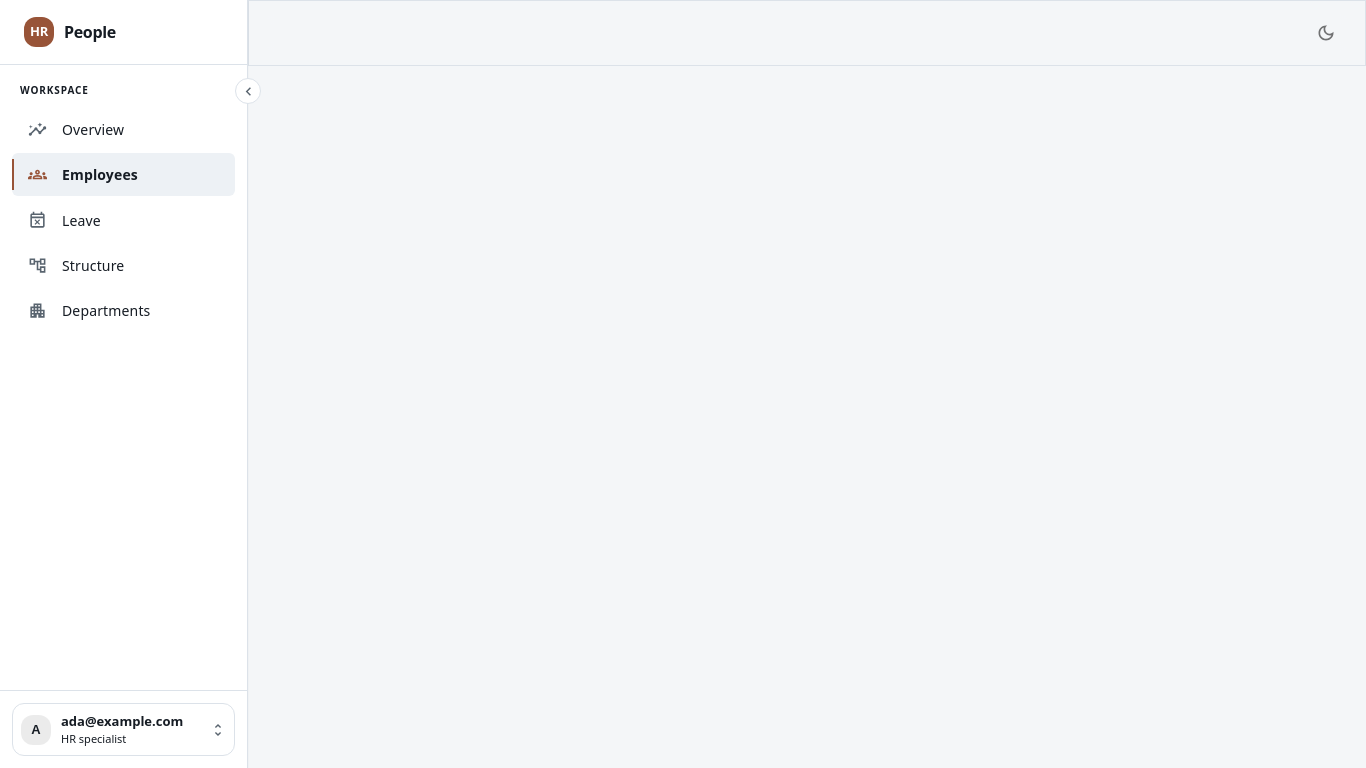
Layout › opens the account actions from the identity block
Click the button with aria-label "Account menu for ada@example.com".
click(124, 730)  # box [12,703,235,756]
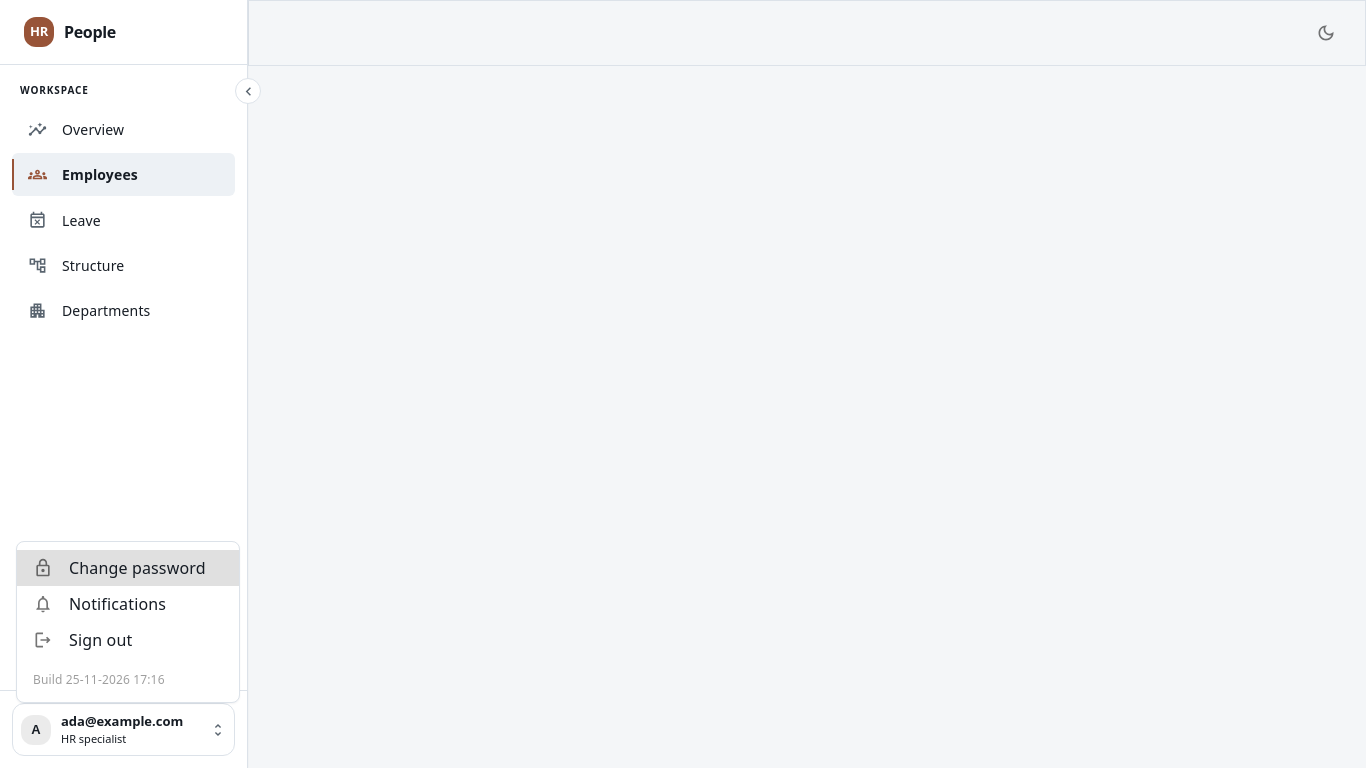
Expected: the menu item "Sign out" is shown, [33,629,132,651]
Expected: the menu item "Change password" is shown, [17,550,239,586]
Expected: the menu item "Notifications" is shown, [33,593,166,615]
